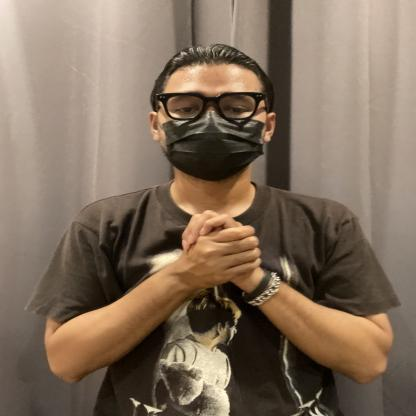Grieve: (79, 192, 318, 312)
